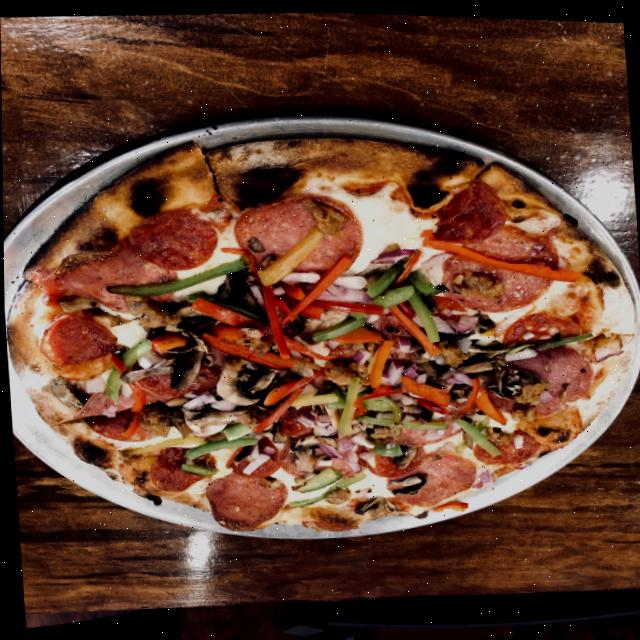mushrooms: (209, 346, 285, 405), (492, 358, 530, 393), (385, 466, 426, 489)
pepperoni: (230, 190, 362, 272), (433, 229, 558, 306), (117, 203, 217, 271), (379, 440, 476, 507), (38, 307, 119, 380), (200, 466, 287, 527), (429, 181, 495, 239), (472, 421, 546, 456), (521, 348, 572, 384), (97, 401, 142, 438), (170, 454, 208, 475)
pizza: (1, 107, 640, 552)
